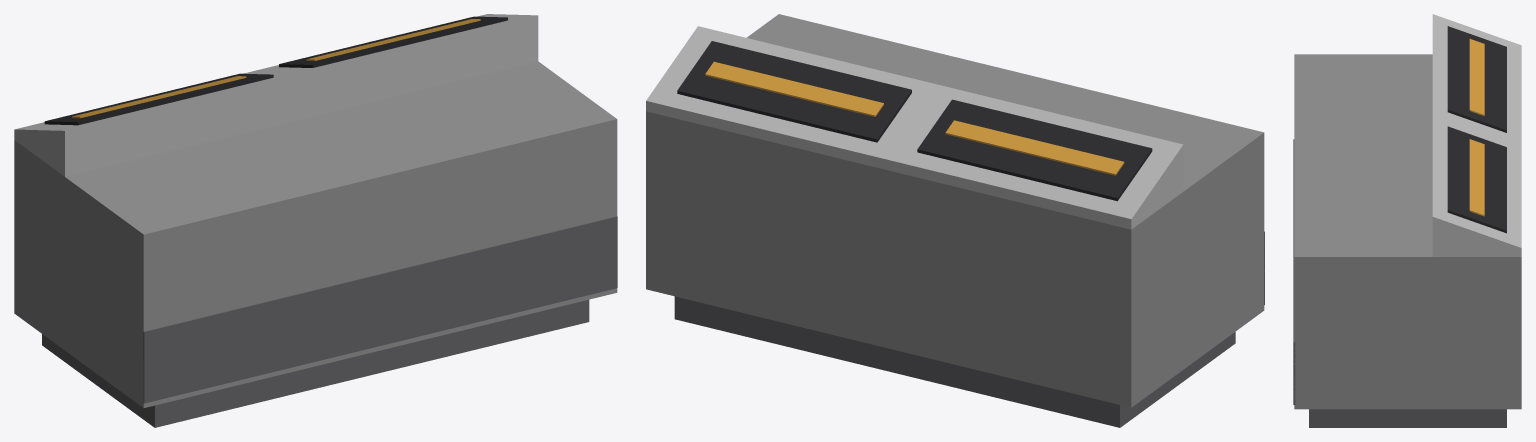
File: vge_station_console_small.obj
3 renders of one model, left to right at view 1: azimuth 30°, elevation 25°; view 2: azimuth 150°, elevation 25°; view 3: azimuth 270°, elevation 25°, orthographic. The views are drawn at different scales.
Visible parts, largest first — view 1: vge_station_console_small_1, vge_station_console_small_2, vge_station_console_small_3, vge_station_console_small_0, vge_station_console_small_4, vge_station_console_small_6, vge_station_console_small_5, vge_station_console_small_7; view 2: vge_station_console_small_1, vge_station_console_small_3, vge_station_console_small_0, vge_station_console_small_4, vge_station_console_small_6, vge_station_console_small_5, vge_station_console_small_7; view 3: vge_station_console_small_1, vge_station_console_small_3, vge_station_console_small_6, vge_station_console_small_4, vge_station_console_small_0, vge_station_console_small_5, vge_station_console_small_7, vge_station_console_small_2.
Boxes of the visible parts, bbox=[...] form: vge_station_console_small_1: bbox=[14, 61, 617, 407]; vge_station_console_small_2: bbox=[143, 216, 617, 403]; vge_station_console_small_3: bbox=[14, 14, 538, 176]; vge_station_console_small_0: bbox=[42, 299, 589, 427]; vge_station_console_small_4: bbox=[44, 73, 273, 125]; vge_station_console_small_6: bbox=[279, 16, 507, 67]; vge_station_console_small_5: bbox=[72, 76, 246, 118]; vge_station_console_small_7: bbox=[306, 19, 480, 60]; vge_station_console_small_1: bbox=[646, 14, 1264, 407]; vge_station_console_small_3: bbox=[646, 26, 1183, 229]; vge_station_console_small_0: bbox=[674, 296, 1235, 427]; vge_station_console_small_4: bbox=[917, 99, 1152, 201]; vge_station_console_small_6: bbox=[677, 41, 911, 142]; vge_station_console_small_5: bbox=[945, 120, 1124, 175]; vge_station_console_small_7: bbox=[705, 61, 883, 116]; vge_station_console_small_1: bbox=[1294, 54, 1521, 409]; vge_station_console_small_3: bbox=[1432, 14, 1521, 256]; vge_station_console_small_6: bbox=[1447, 126, 1506, 233]; vge_station_console_small_4: bbox=[1447, 26, 1506, 132]; vge_station_console_small_0: bbox=[1309, 409, 1506, 427]; vge_station_console_small_5: bbox=[1469, 39, 1484, 116]; vge_station_console_small_7: bbox=[1469, 139, 1484, 216]; vge_station_console_small_2: bbox=[1293, 139, 1295, 404].
Size of the model in its own units: 1.94 by 0.98 by 0.924.
